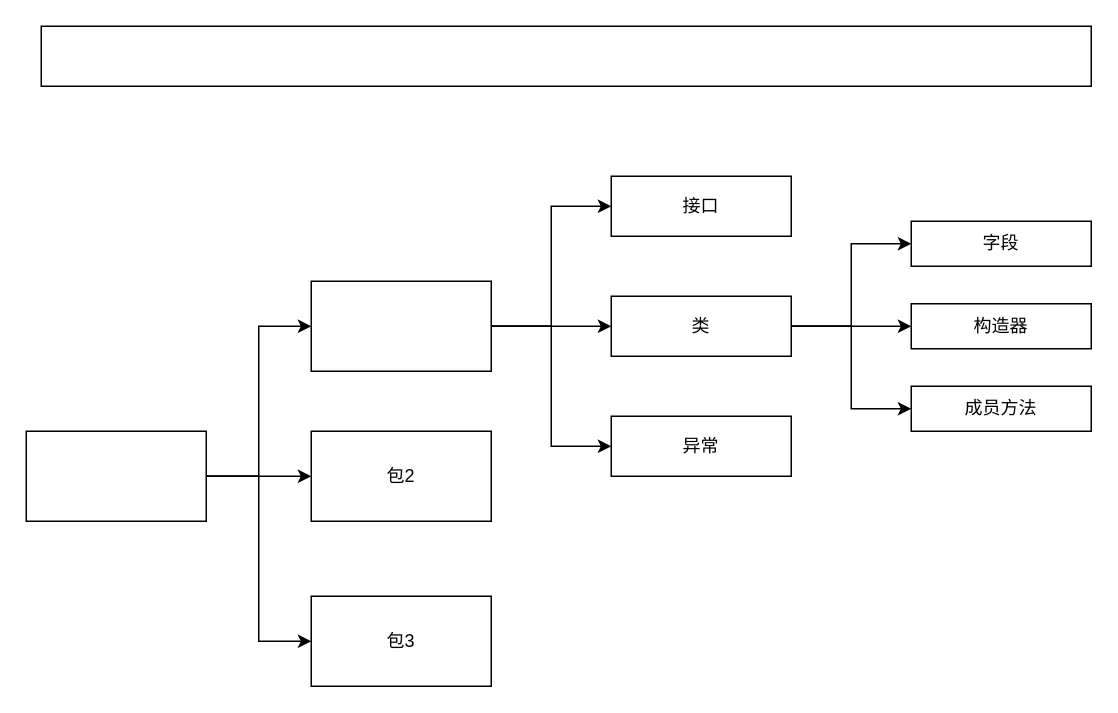
This 1118x713 diagram has some shape labels left out. Each missing label, with the centre of its shape:
java 类的组织形式: the point at 565,55
JDK8，11: the point at 115,475
包1: the point at 400,325
